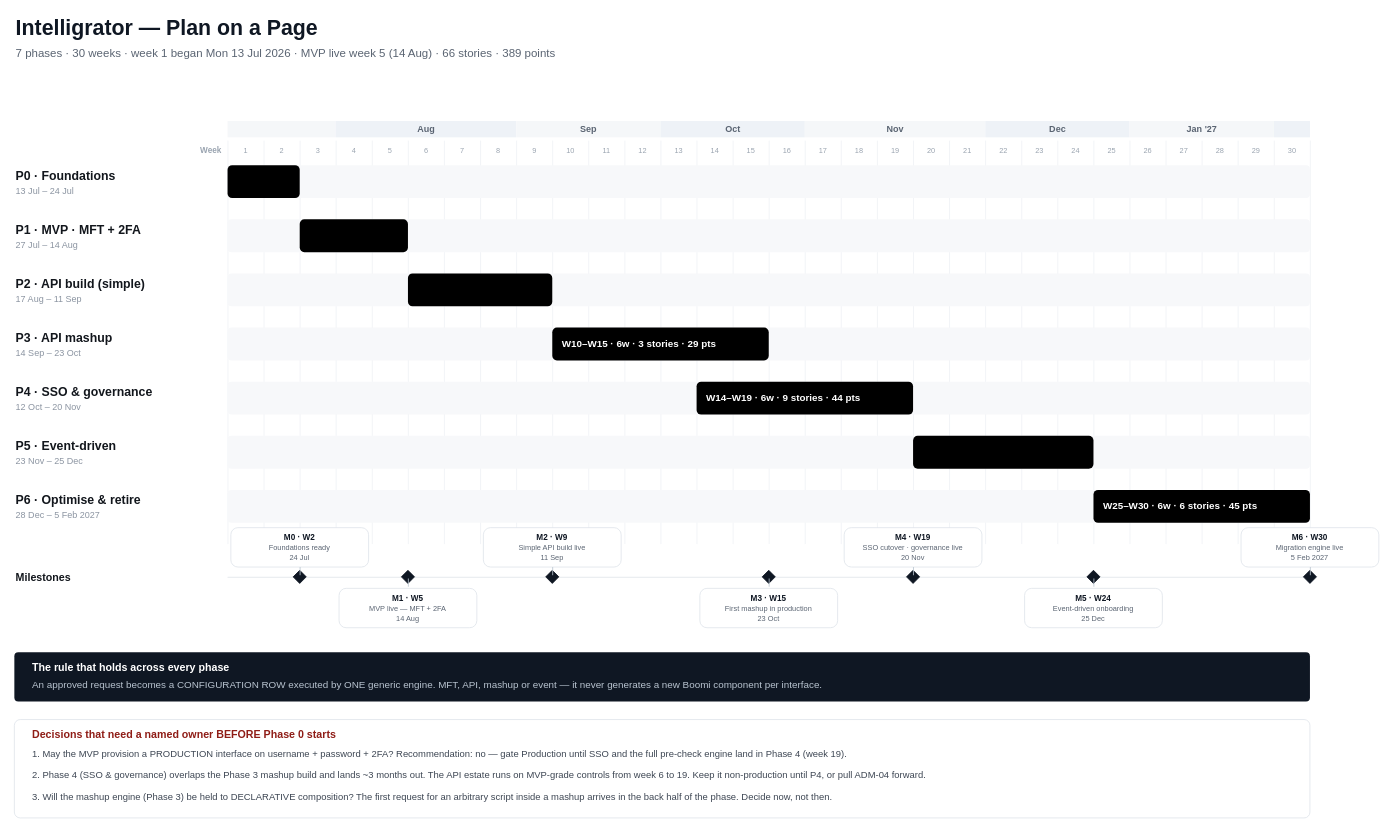
This 1393x832 diagram has some shape labels left out. The shapes that lost their labels are listed below. From the top down, each one's centre as x and y in pixels, then its label:
At point 281,129: "Jul".
At point 1291,129: "Feb '27".
At point 263,181: "W1–W2 · 2w · platform enablers".
At point 353,235: "W3–W5 · 3w · 33 stories · 161 pts".
At point 480,289: "W6–W9 · 4w · 11 stories · 76 pts".
At point 1003,451: "W20–W24 · 5w · 4 stories · 34 pts".
